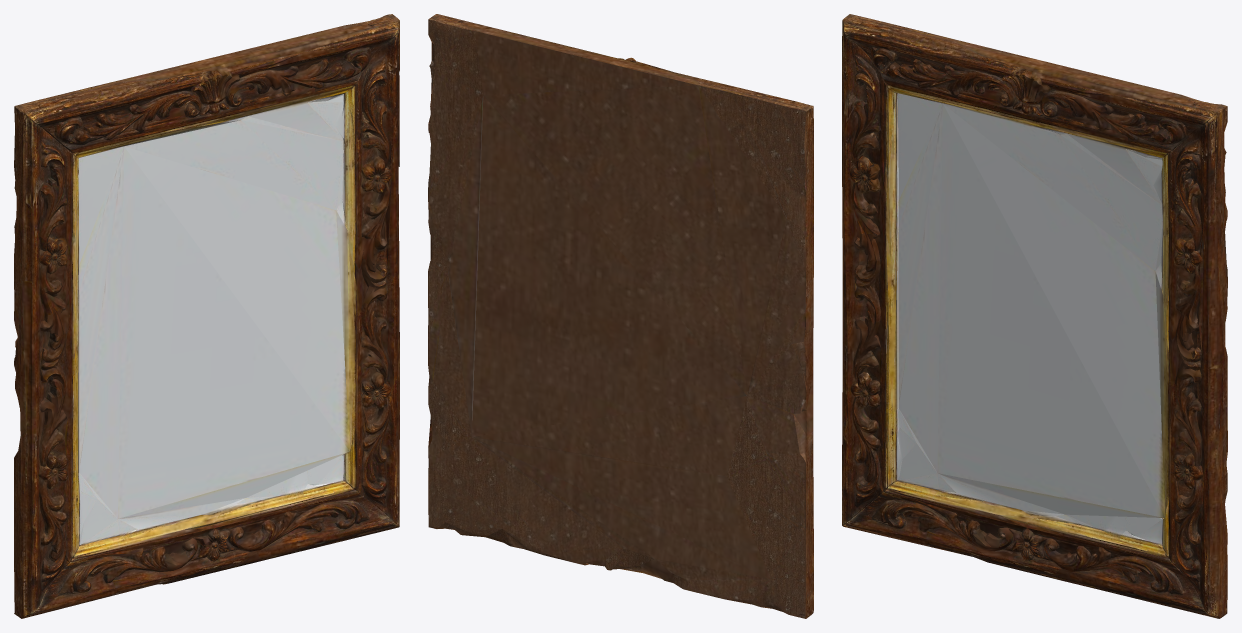
The model's file is w4frameport.glb.
3 views of the same model, side by side, from view 1: azimuth 30°, elevation 25°; view 2: azimuth 150°, elevation 25°; view 3: azimuth 330°, elevation 25° (orthographic).
Parts seen in each view (by area): view 1: output_unwrapped; view 2: output_unwrapped; view 3: output_unwrapped.
Part boxes in pixels (x1,y1,x2,y2): output_unwrapped: [14, 14, 399, 618]; output_unwrapped: [428, 14, 813, 618]; output_unwrapped: [842, 14, 1227, 618].
Bounding box in the file's own units: 0.3117 × 0.4 × 0.022.
Materials: 1 (1 with a texture image).
